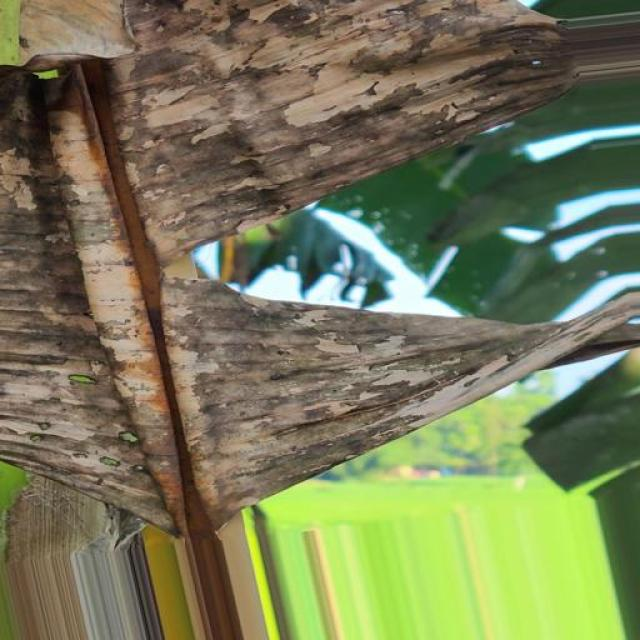Bract_mosaic_virus: (0, 0, 640, 555)
